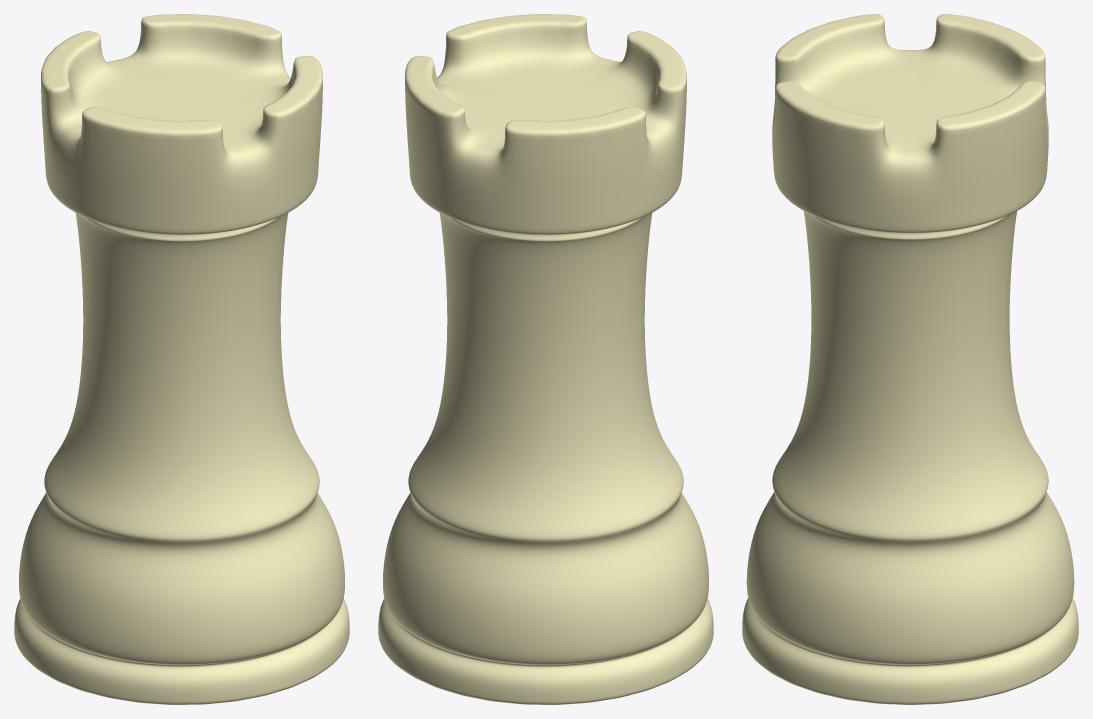
Rendered from Rook.fbx.
3 renders of one model, left to right at view 1: azimuth 30°, elevation 25°; view 2: azimuth 150°, elevation 25°; view 3: azimuth 270°, elevation 25°, orthographic.
Parts seen in each view (by area): view 1: Rook; view 2: Rook; view 3: Rook.
Boxes of the visible parts, x1,y1,x2,y2 form: Rook: [14, 14, 349, 704]; Rook: [378, 14, 713, 704]; Rook: [742, 14, 1078, 704].
Size of the model in its own units: 333 by 622 by 333.
